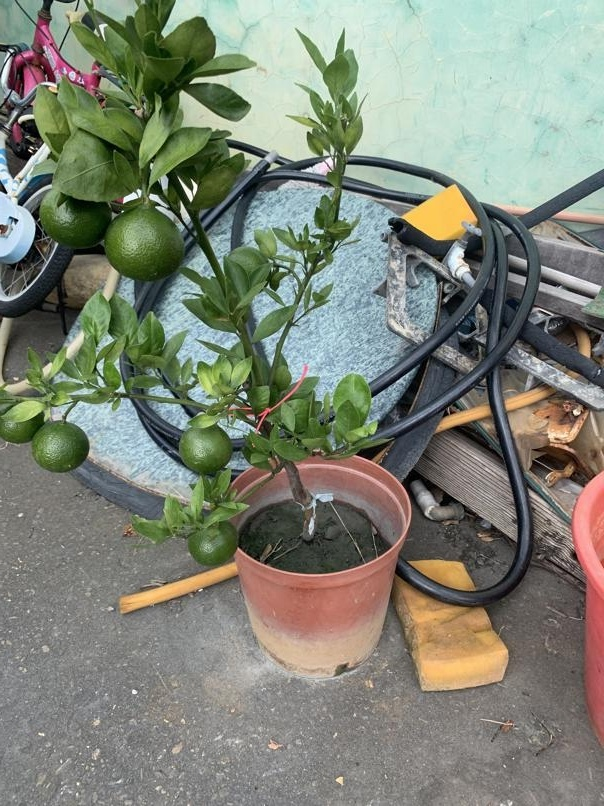Tangerine: (102, 199, 188, 281), (41, 183, 113, 247), (30, 415, 91, 475), (175, 419, 236, 476), (186, 519, 239, 565)
